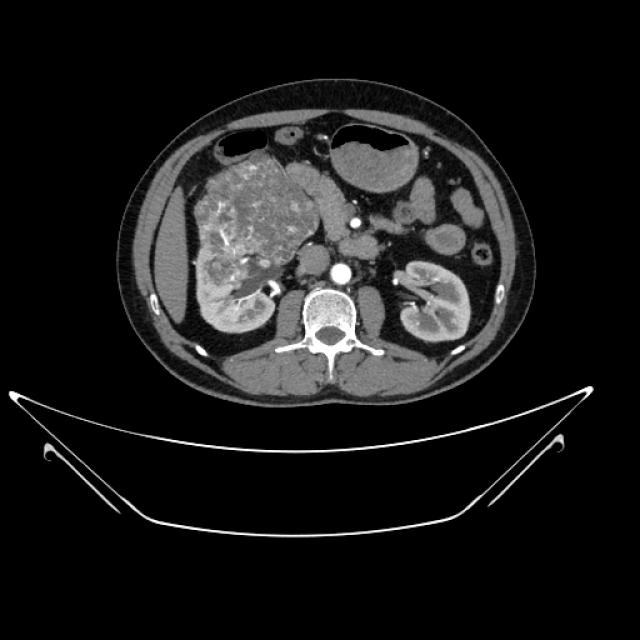Tumor: (173, 158, 353, 308)
